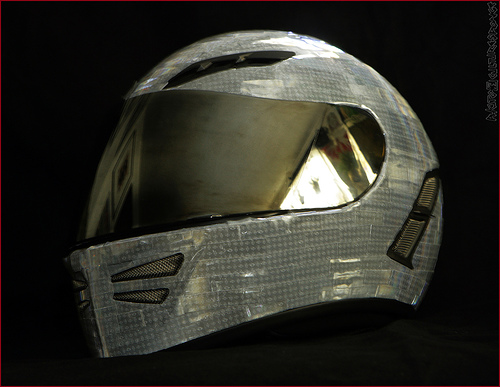helmet: (96, 43, 450, 329)
